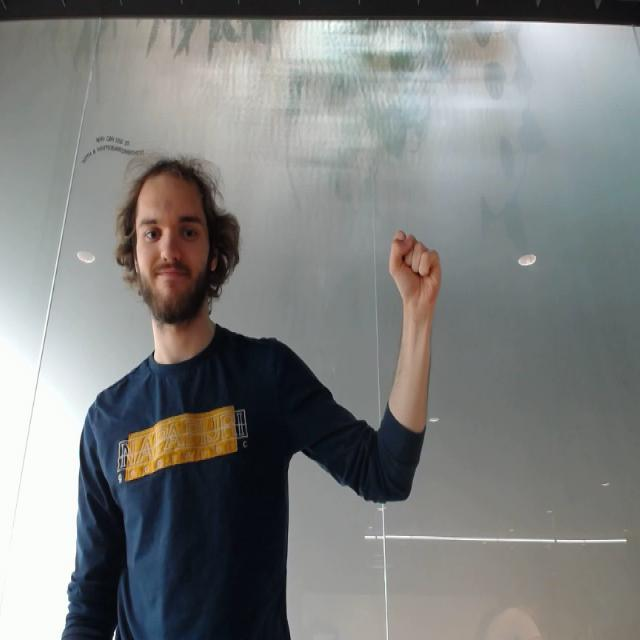stop: (386, 227, 446, 317)
